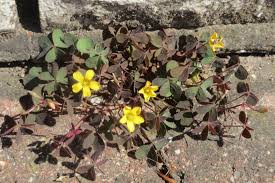clover: (34, 29, 75, 64)
yellow wood sorrel: (71, 68, 101, 98), (119, 105, 146, 132), (137, 79, 158, 101), (207, 31, 224, 53)
